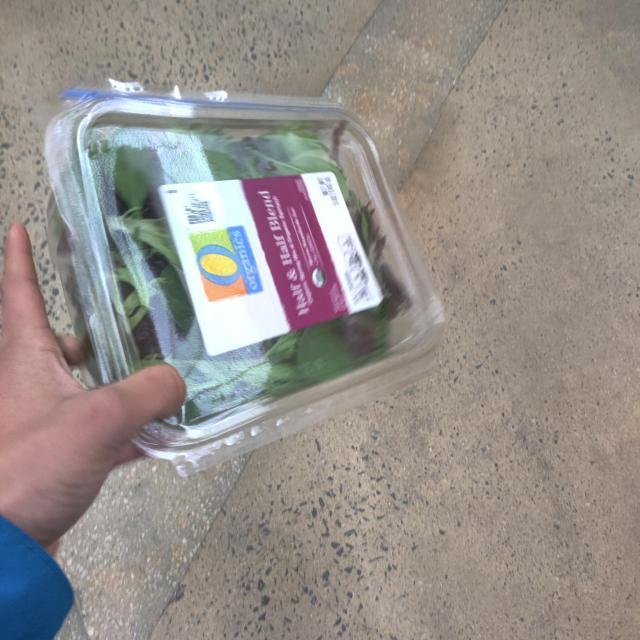Salad: (20, 62, 454, 466)
